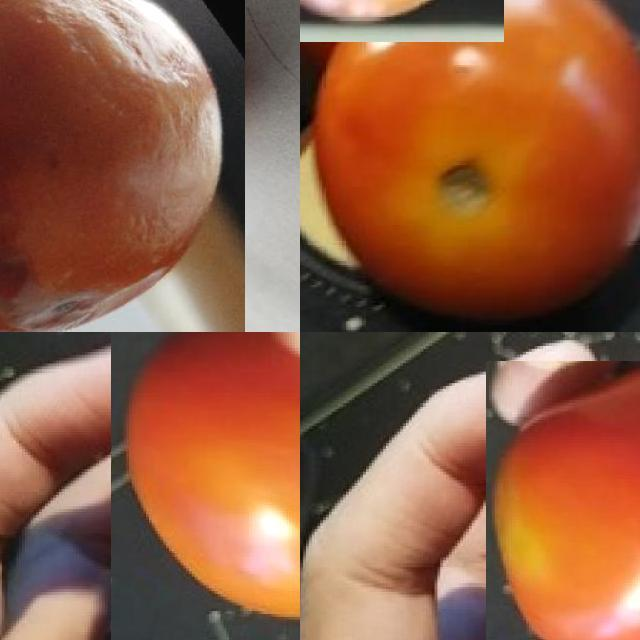Fresh Tomato: (311, 0, 640, 332), (111, 332, 300, 640), (486, 361, 640, 640)
Rotten Tomato: (0, 0, 245, 332)
